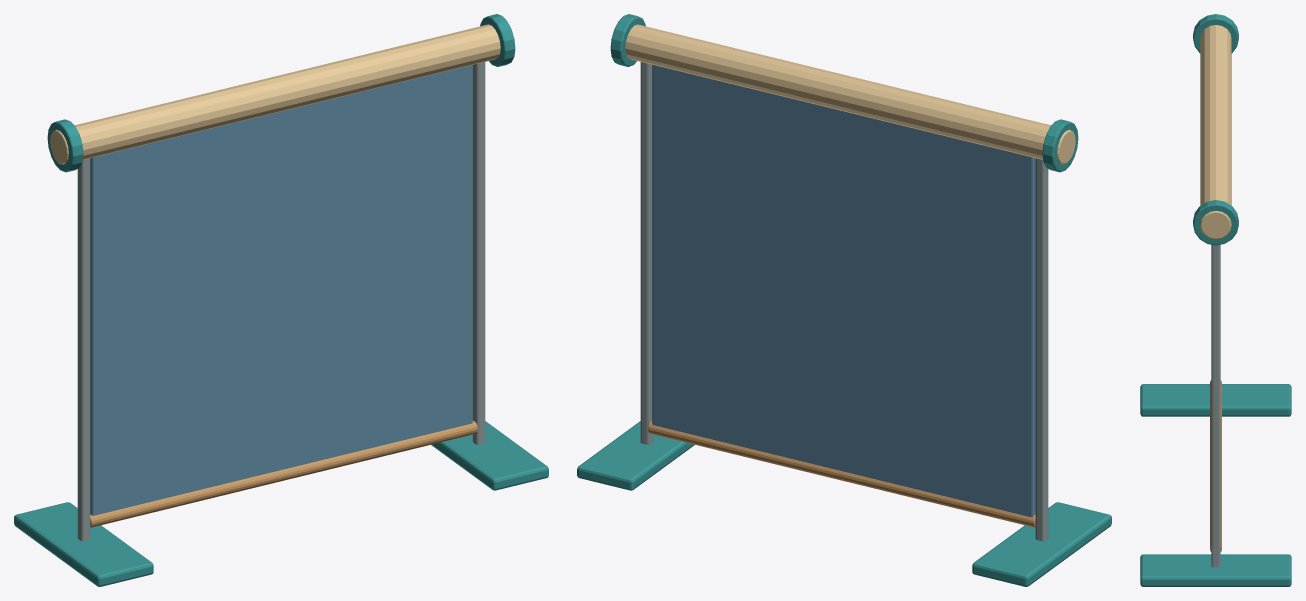
The model's file is S077_backdrop_roller.glb.
3 views of the same model, side by side, from view 1: azimuth 30°, elevation 25°; view 2: azimuth 150°, elevation 25°; view 3: azimuth 270°, elevation 25° (orthographic). The views are drawn at different scales.
Parts seen in each view (by area): view 1: hanging_canvas, backdrop_roller, backdrop_foot, backdrop_leg, backdrop_leg.001, canvas_lower_weight, backdrop_foot.001, roller_end, roller_end.001; view 2: hanging_canvas, backdrop_roller, backdrop_foot, backdrop_leg, backdrop_leg.001, backdrop_foot.001, canvas_lower_weight, roller_end, roller_end.001; view 3: backdrop_roller, backdrop_foot.001, backdrop_foot, backdrop_leg.001, roller_end.001, roller_end, canvas_lower_weight.
Part boxes in pixels (left/top/right/bottom): hanging_canvas: left=90, top=65, right=472, bottom=515; backdrop_roller: left=50, top=24, right=500, bottom=164; backdrop_foot: left=14, top=502, right=153, bottom=586; backdrop_leg: left=77, top=158, right=90, bottom=541; backdrop_leg.001: left=472, top=62, right=485, bottom=444; canvas_lower_weight: left=90, top=420, right=477, bottom=527; backdrop_foot.001: left=431, top=421, right=548, bottom=490; roller_end: left=47, top=119, right=83, bottom=172; roller_end.001: left=480, top=14, right=515, bottom=66; hanging_canvas: left=652, top=64, right=1035, bottom=517; backdrop_roller: left=625, top=24, right=1075, bottom=164; backdrop_foot: left=972, top=502, right=1111, bottom=586; backdrop_leg: left=1035, top=158, right=1048, bottom=541; backdrop_leg.001: left=640, top=62, right=653, bottom=444; backdrop_foot.001: left=577, top=421, right=694, bottom=490; canvas_lower_weight: left=648, top=421, right=1035, bottom=527; roller_end: left=1042, top=119, right=1078, bottom=172; roller_end.001: left=610, top=14, right=645, bottom=66; backdrop_roller: left=1200, top=25, right=1231, bottom=239; backdrop_foot.001: left=1140, top=554, right=1291, bottom=586; backdrop_foot: left=1140, top=384, right=1291, bottom=416; backdrop_leg.001: left=1211, top=244, right=1220, bottom=567; roller_end.001: left=1193, top=200, right=1238, bottom=245; roller_end: left=1193, top=14, right=1238, bottom=53; canvas_lower_weight: left=1210, top=380, right=1221, bottom=551.
Size of the model in its own units: 3.2 by 2.93 by 1.05.
